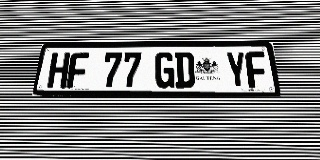7: (101, 52, 123, 88), (121, 52, 142, 88)
D: (175, 52, 195, 88)
F: (245, 52, 269, 88), (66, 53, 89, 88)
G: (155, 52, 175, 88)
H: (47, 53, 71, 88)
Y: (225, 52, 248, 88)
